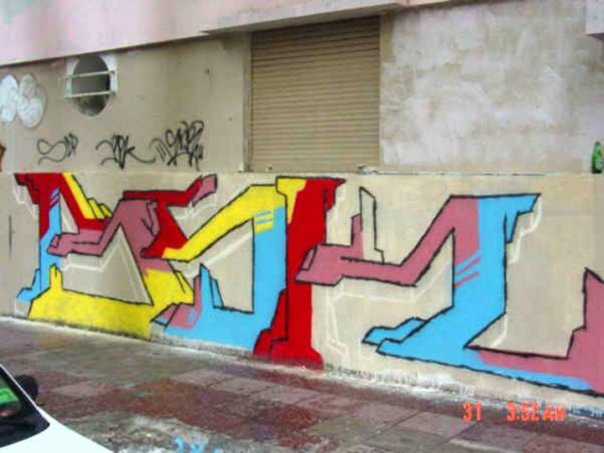graffity: (8, 172, 603, 395), (147, 117, 209, 173), (93, 130, 159, 171), (32, 130, 81, 167)
